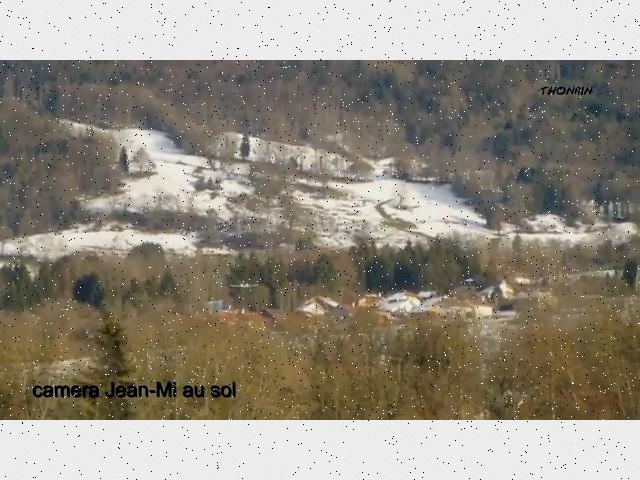Anti-Drone: (197, 129, 241, 163)
